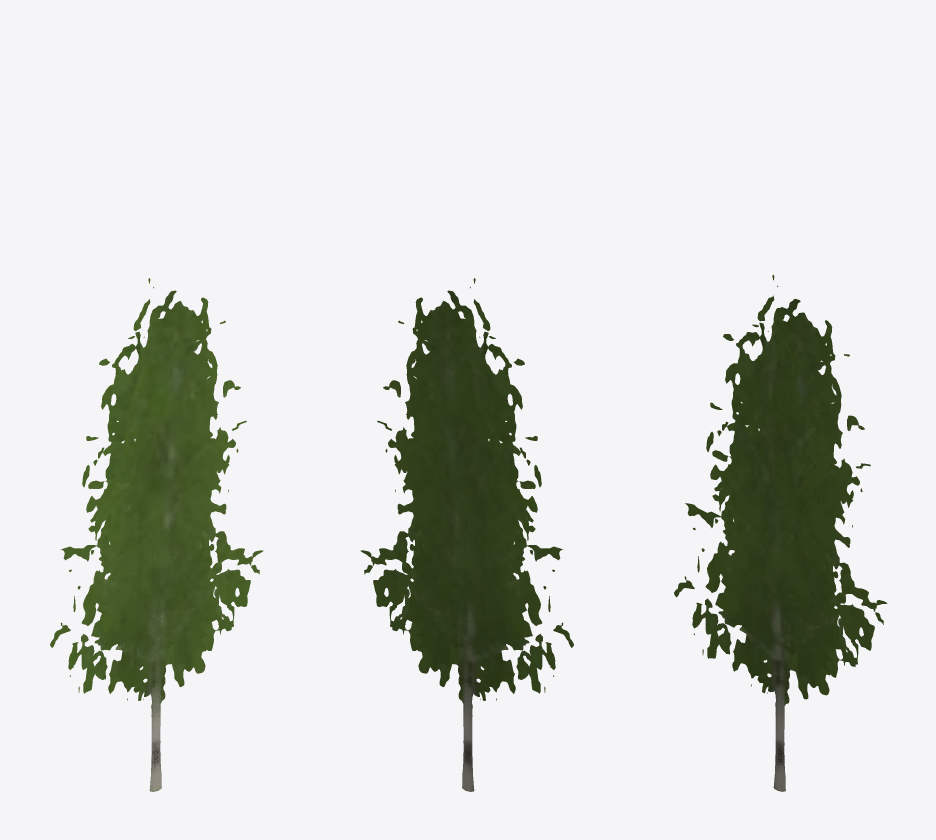
The model's file is birke.lite.glb.
The picture shows the model from 3 angles, left to right: view 1: azimuth 30°, elevation 25°; view 2: azimuth 150°, elevation 25°; view 3: azimuth 330°, elevation 25°; orthographic projection.
Parts seen in each view (by area): view 1: v2_imp, v0_imp, v1_imp; view 2: v0_imp, v1_imp, v2_imp; view 3: v1_imp, v2_imp, v0_imp.
Boxes of the visible parts, <box> form: v2_imp: <box>86,320,252,791</box>; v0_imp: <box>50,278,263,791</box>; v1_imp: <box>68,331,242,791</box>; v0_imp: <box>360,278,573,791</box>; v1_imp: <box>381,331,555,791</box>; v2_imp: <box>371,320,537,791</box>; v1_imp: <box>692,322,866,791</box>; v2_imp: <box>710,320,876,791</box>; v0_imp: <box>674,274,887,791</box>.
Size of what is drawn, in the model's own units: 11.17 by 27.92 by 0.
1 material, 1 textured.
